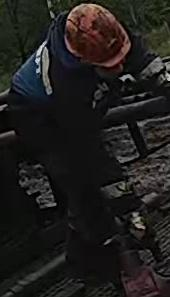gloves: (108, 189, 156, 251), (135, 53, 170, 98)
helmet: (64, 2, 131, 68)
vest: (9, 14, 131, 146)
